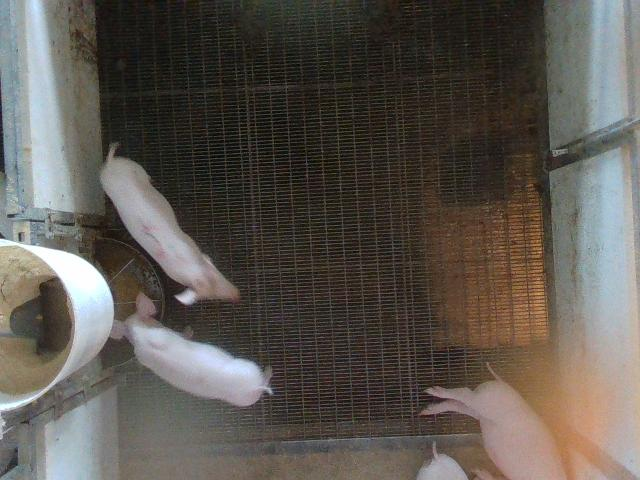pig-5: (100, 144, 239, 305)
